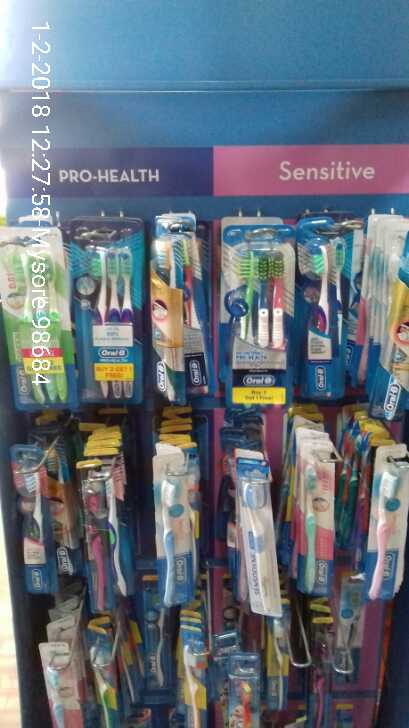oralb: (1, 250, 76, 398), (229, 239, 289, 408), (87, 243, 140, 412), (75, 459, 133, 602), (303, 238, 348, 395), (145, 459, 194, 602), (233, 449, 271, 621), (158, 231, 197, 397), (362, 453, 401, 592), (293, 449, 331, 587), (20, 465, 51, 589)
